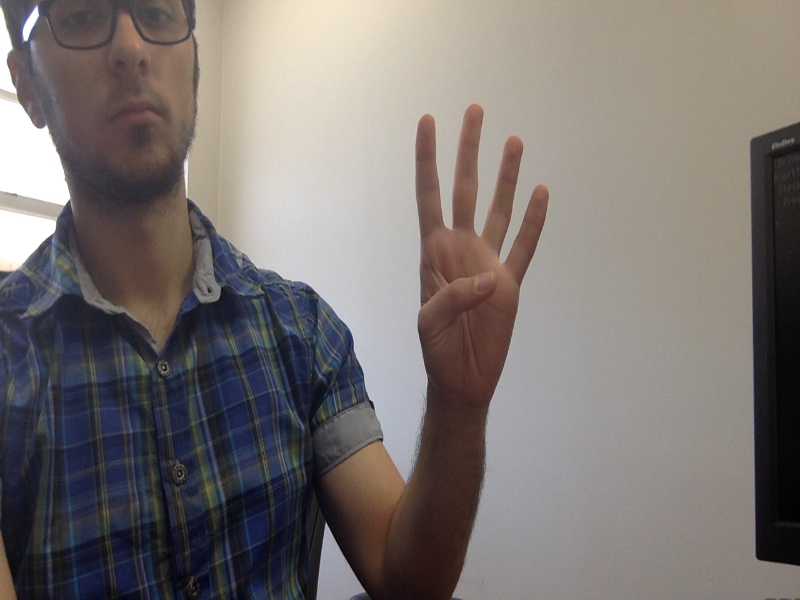4-hand: (413, 104, 551, 405)
